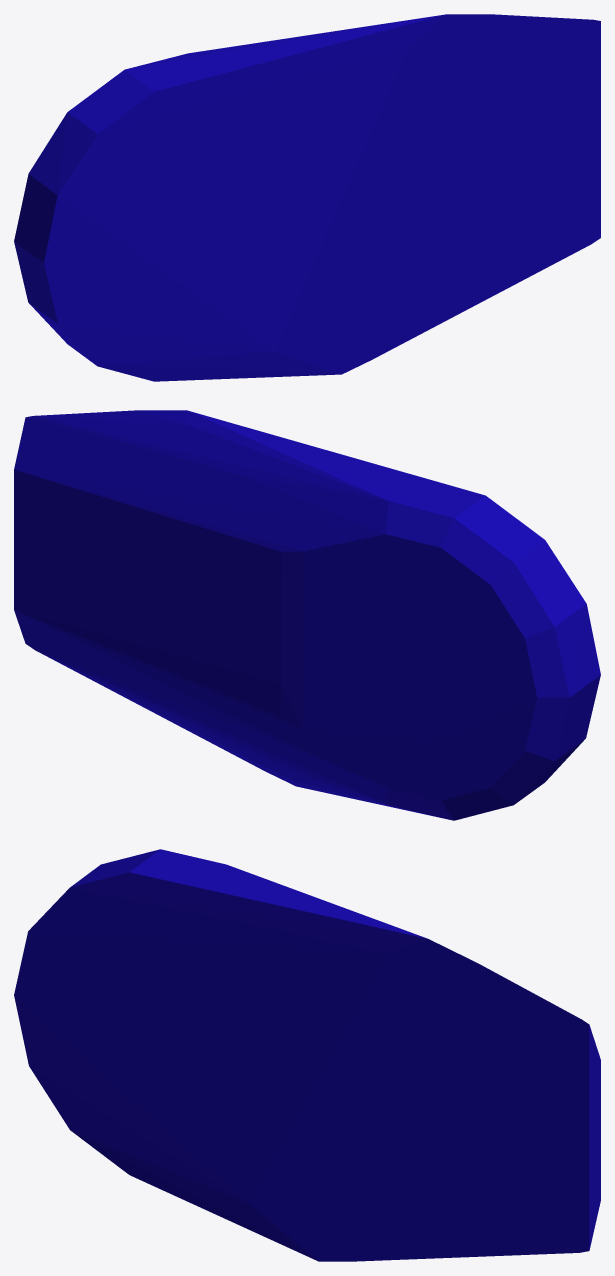
3 renders of one model, top to bottom at view 1: azimuth 30°, elevation 25°; view 2: azimuth 150°, elevation 25°; view 3: azimuth 330°, elevation 25°, orthographic. The views are drawn at different scales.
Bounding box in the file's own units: 0.0233 × 0.0135 × 0.00297.
